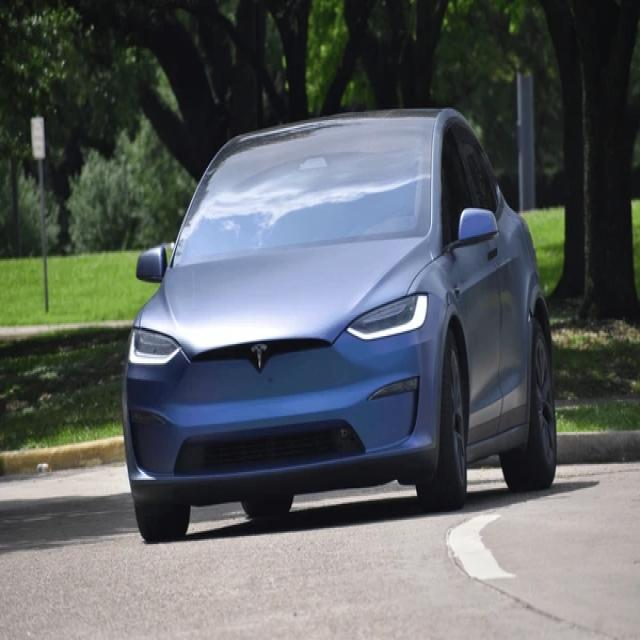tesla: (250, 341, 272, 381)
